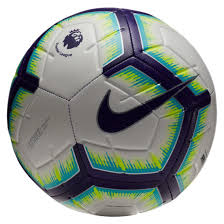football: (5, 6, 219, 218)
